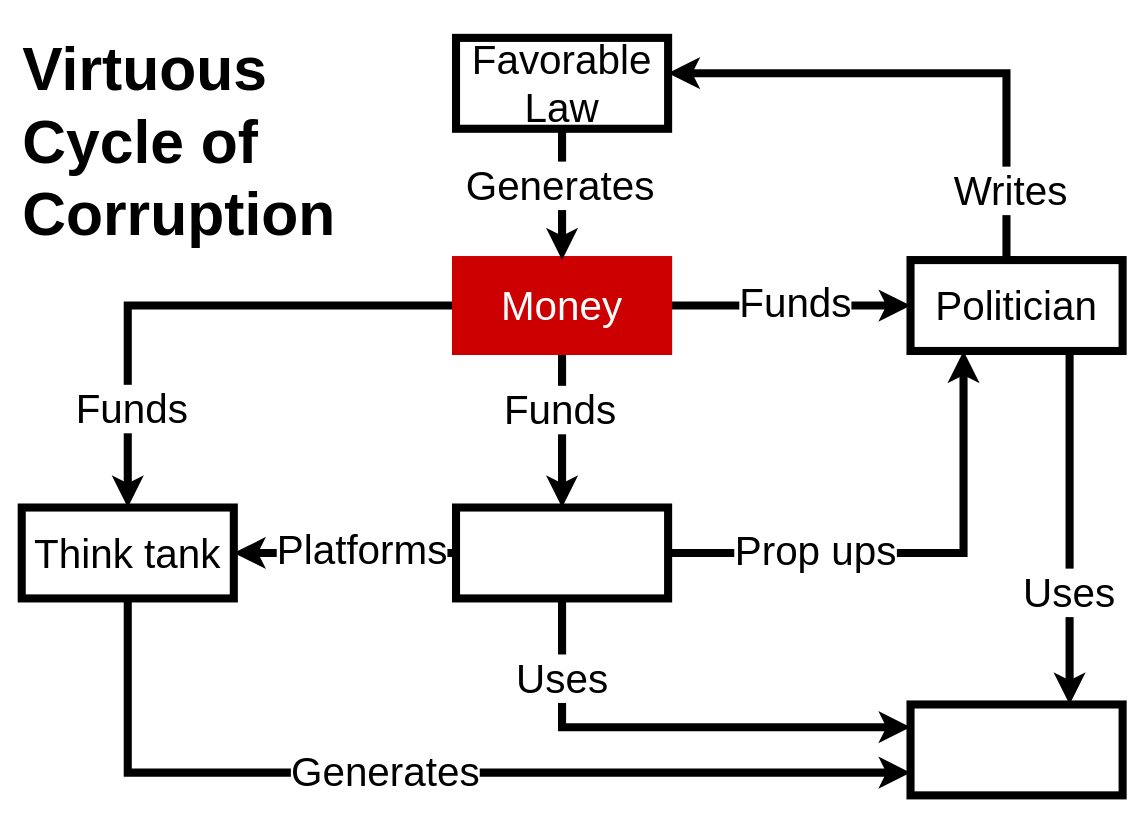
The diagram is 1143 pixels wide and 816 high, and some of its shapes have lost their labels. The centre of each missing label's shape, as x and y in pixels:
"Media" belongs at (x=561, y=552).
"Propaganda" belongs at (x=1016, y=749).
